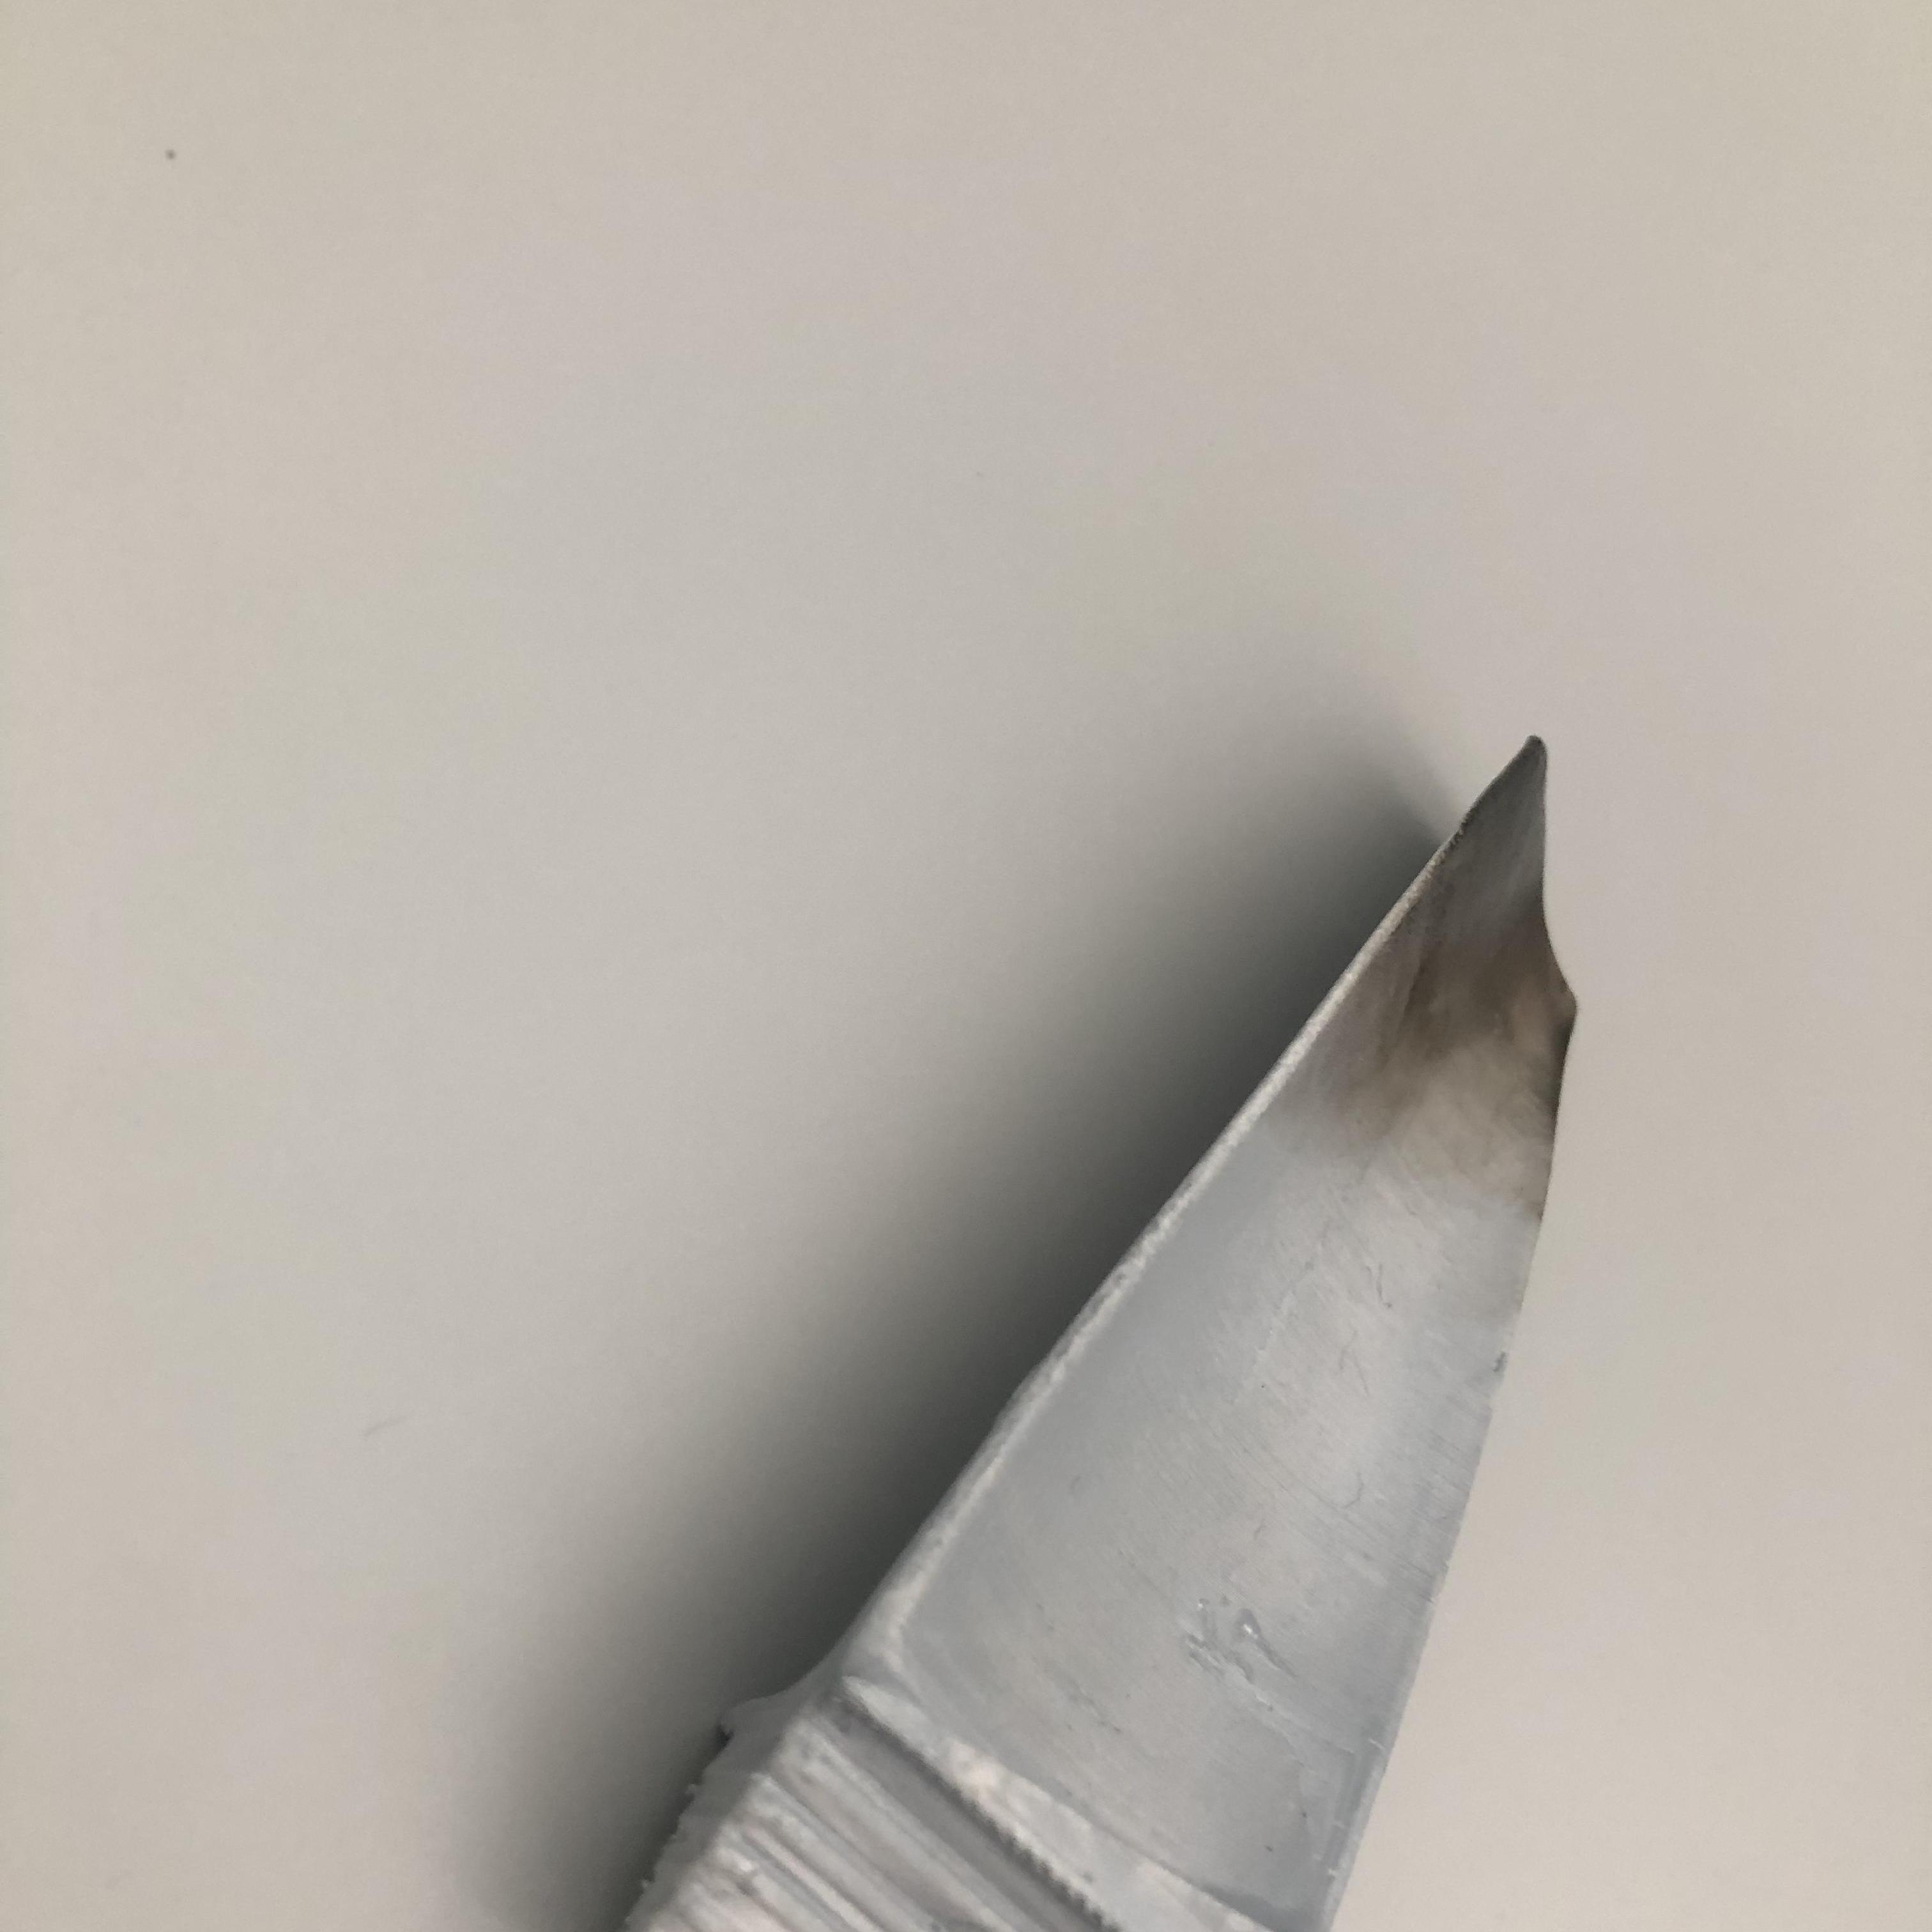ablation: (1437, 816, 1568, 1122)
